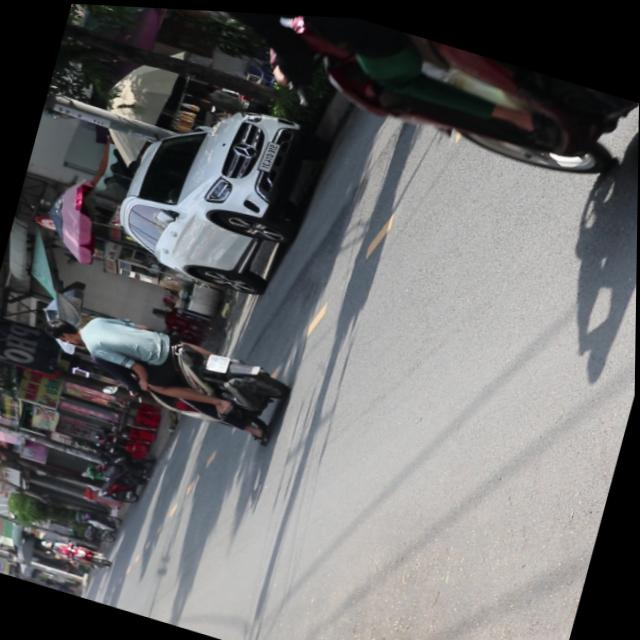licenseplate: (61, 3, 640, 205), (29, 291, 295, 443)
motorcyclist: (42, 312, 87, 345)
nohelmet: (205, 348, 229, 371)
